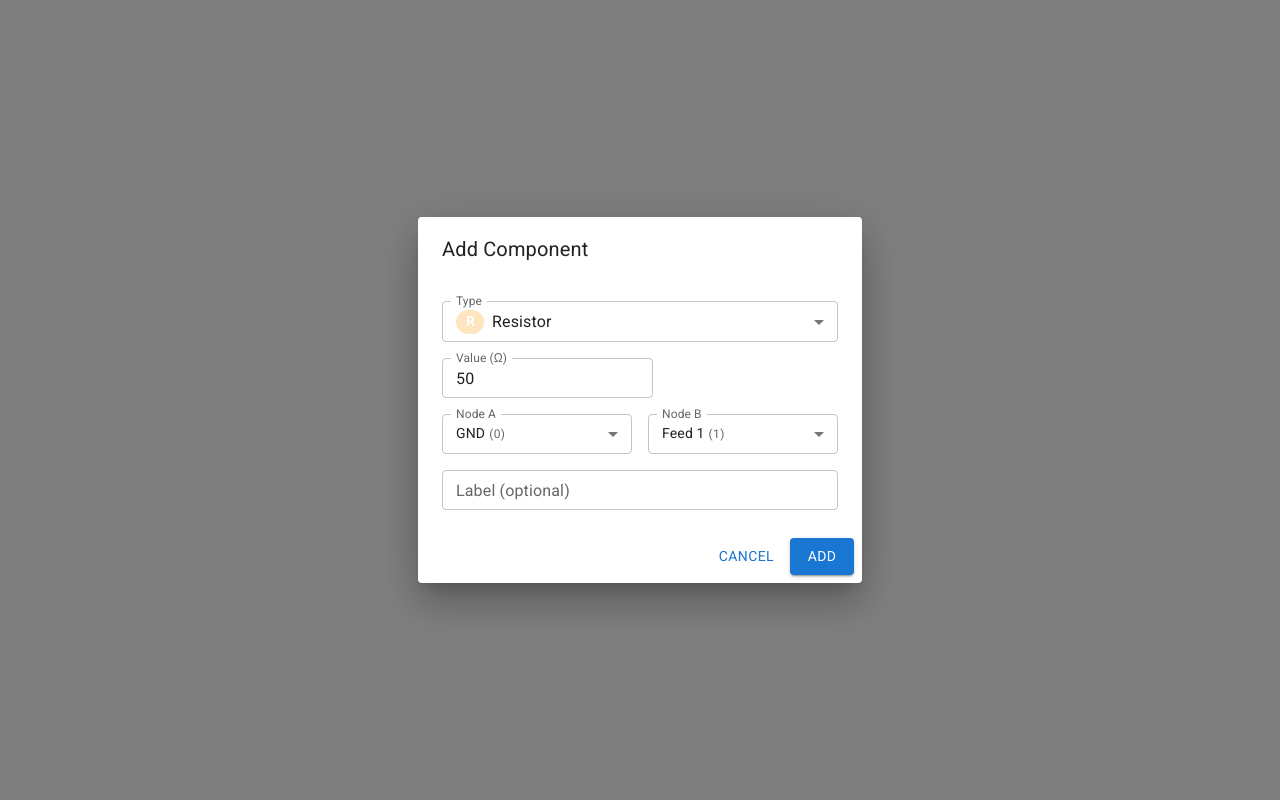
Scenario: ComponentEditDialog › Value Validation › should reject zero value for passive components
Clear the field labelled "Value (Ω)". click: point(548, 378)
box: [442,358,653,398]
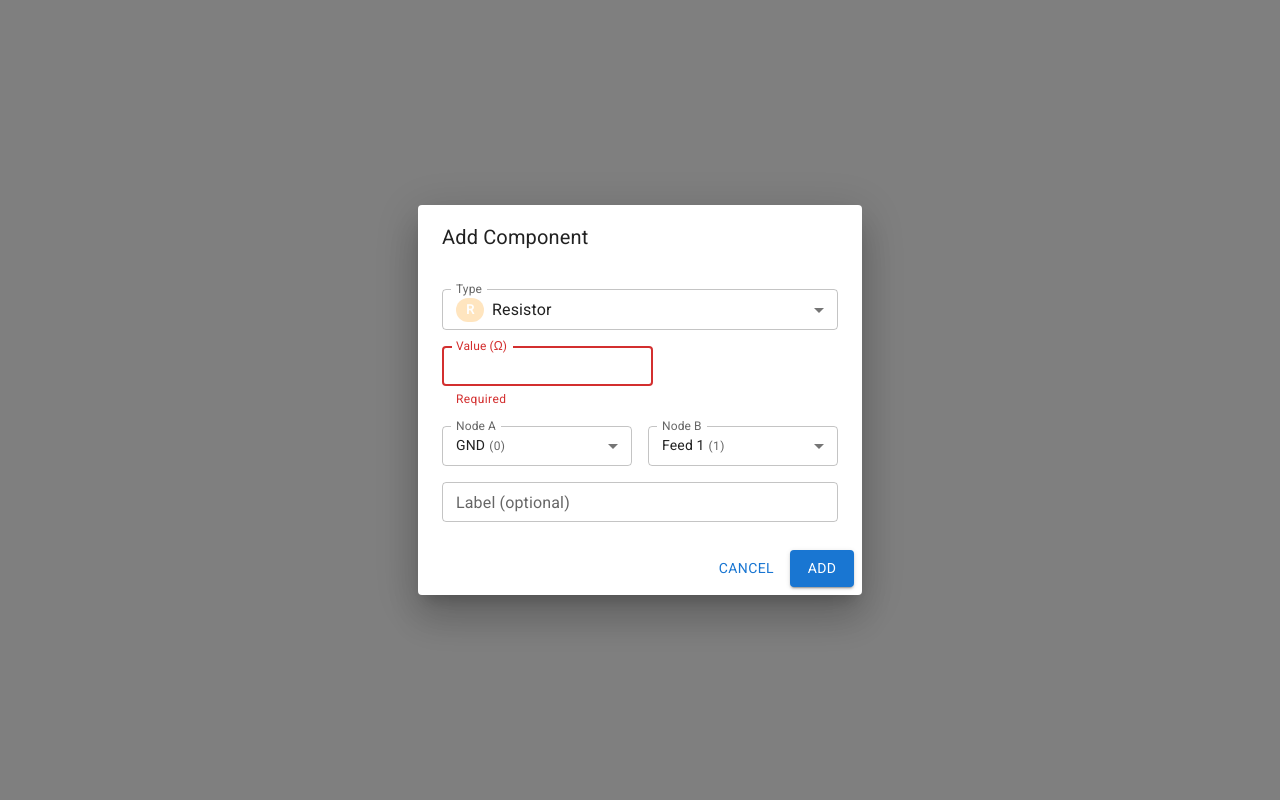
Type "0" into the field labelled "Value (Ω)". click: point(548, 366)
box: [442,346,653,386]
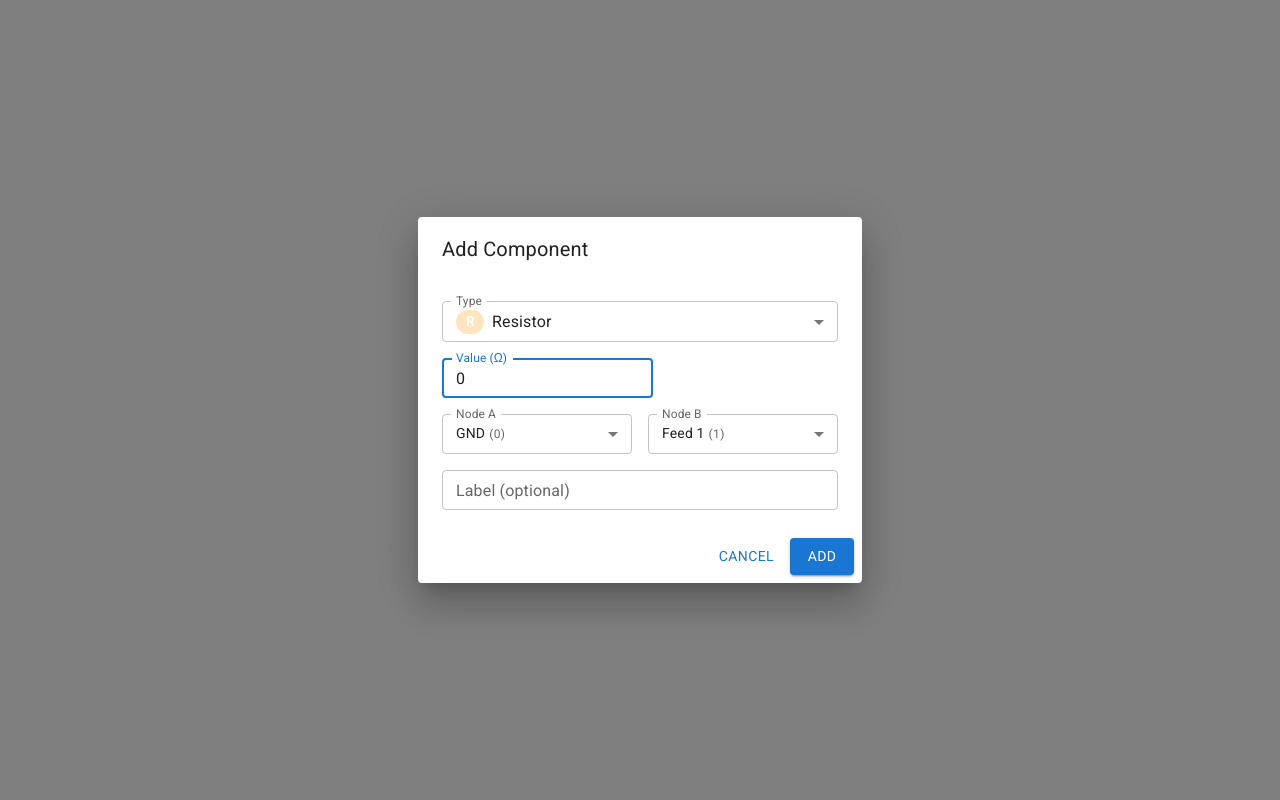
Click the button "Add". click: point(822, 557)
box: [790,538,854,575]
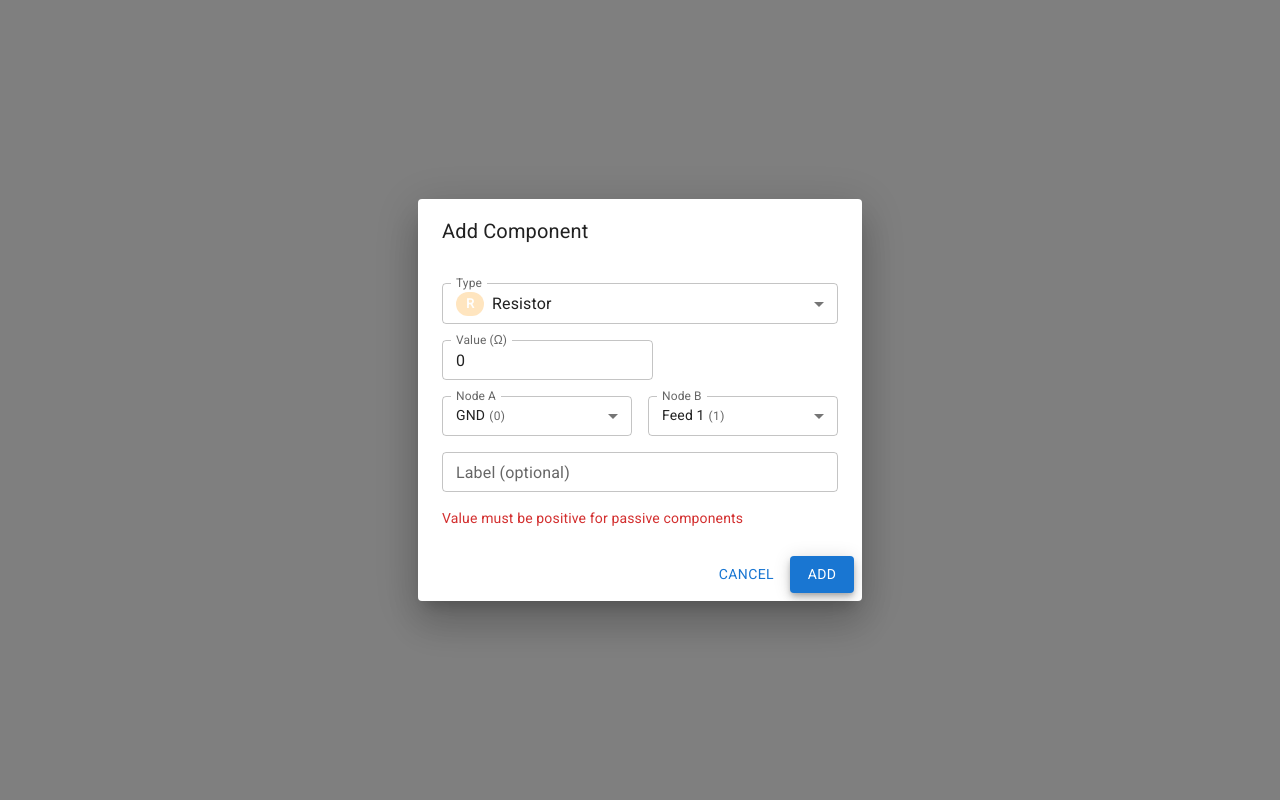
Expected: the text "Value must be positive for passive components" is shown, [442,510,743,526]
